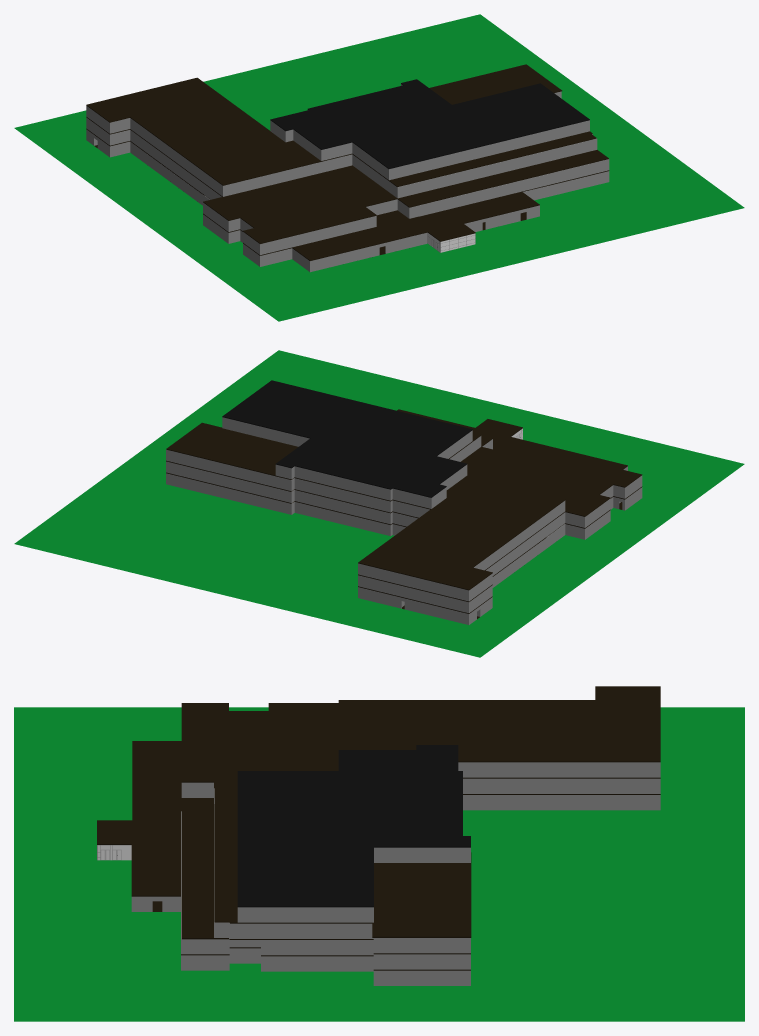
Rendered from usuLibrary.fbx.
The picture shows the model from 3 angles, top to bottom: view 1: azimuth 30°, elevation 25°; view 2: azimuth 150°, elevation 25°; view 3: azimuth 270°, elevation 25°; orthographic projection. The views are drawn at different scales.
Visible parts, largest first — view 1: LandScape, BuildingShell, BuildingShell.003, Ceiling.003, BuildingShell.002, BuildingShell.001; view 2: LandScape, BuildingShell, BuildingShell.003, Ceiling.003, BuildingShell.002, BuildingShell.001; view 3: LandScape, BuildingShell.003, Ceiling.003, BuildingShell, BuildingShell.002, BuildingShell.001.
Boxes of the visible parts, x1,y1,x2,y2 form: LandScape: [14, 14, 744, 321]; BuildingShell: [86, 84, 609, 272]; BuildingShell.003: [86, 64, 596, 186]; Ceiling.003: [270, 79, 589, 168]; BuildingShell.002: [86, 117, 608, 243]; BuildingShell.001: [86, 128, 609, 260]; LandScape: [14, 350, 744, 657]; BuildingShell: [166, 417, 642, 624]; BuildingShell.003: [166, 422, 565, 590]; Ceiling.003: [222, 380, 472, 497]; BuildingShell.002: [166, 435, 642, 601]; BuildingShell.001: [166, 409, 642, 613]; LandScape: [14, 707, 744, 1021]; BuildingShell.003: [214, 686, 660, 937]; Ceiling.003: [237, 745, 470, 907]; BuildingShell: [97, 762, 660, 985]; BuildingShell.002: [181, 703, 660, 954]; BuildingShell.001: [97, 741, 660, 970].
Bounding box in the file's own units: 13205 × 1605 × 12985.
